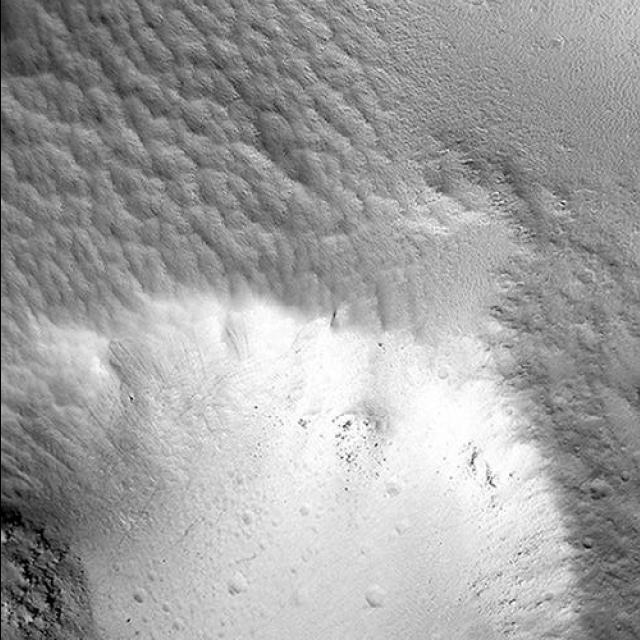crater: (212, 554, 254, 606), (365, 580, 395, 620), (614, 464, 640, 509), (22, 614, 66, 640), (118, 578, 150, 608), (430, 360, 458, 388), (107, 620, 146, 640), (215, 621, 255, 640), (73, 624, 111, 640), (332, 625, 363, 640), (251, 626, 283, 640), (70, 625, 99, 640), (298, 627, 326, 640), (232, 626, 258, 640), (284, 627, 308, 640), (301, 630, 324, 640), (351, 630, 370, 640), (627, 627, 640, 640)
